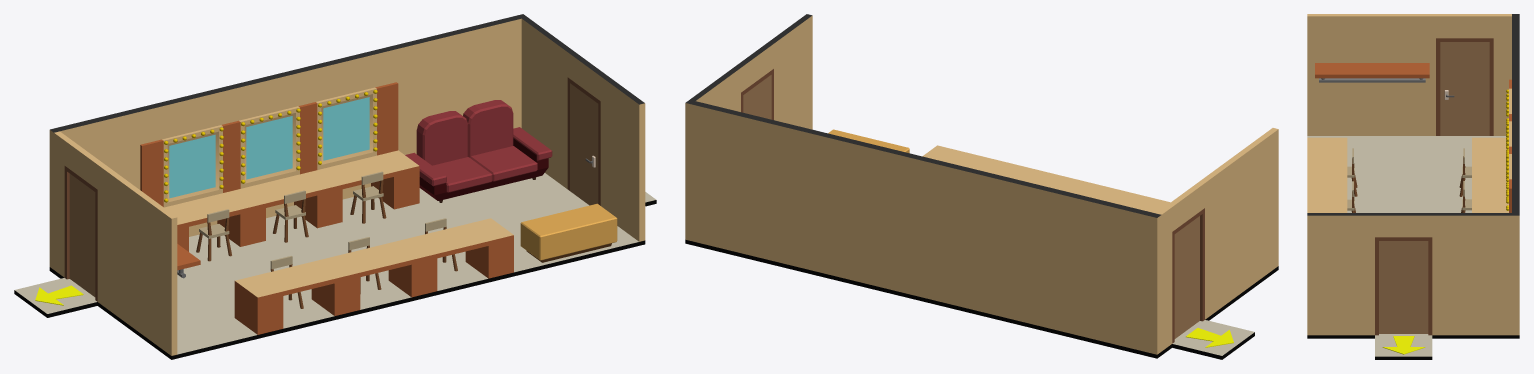
File: Camerino1.fbx
The picture shows the model from 3 angles, left to right: view 1: azimuth 30°, elevation 25°; view 2: azimuth 150°, elevation 25°; view 3: azimuth 270°, elevation 25°; orthographic projection. The views are drawn at different scales.
Parts seen in each view (by area): view 1: Paredes.010, PlataformaMovil.010, Mesa1, Mesa2, RespaldoSofá.001, MuebleTV, Puerta1.012, Puerta1.013, CojinesSofá.001, Sofá.001, ReposabrazosSofa.001, MarcoPuerta.019 (+5 smaller); view 2: Paredes.010, PlataformaMovil.010, Mesa2, Puerta1.013, MarcoPuerta.019, Puerta1.012, SalidaPasillo1.006, MuebleTV; view 3: Paredes.010, PlataformaMovil.010, Puerta1.013, Puerta1.012, Mesa1, Mesa2, Colgador, MarcoPuerta.019, MarcoPuerta.018, SalidaBaño1, Silla.009, Silla.010.
Part boxes in pixels (box(x1,y1,x2,y2)): Paredes.010: box(49, 14, 645, 355); PlataformaMovil.010: box(14, 173, 656, 359); Mesa1: box(140, 82, 419, 251); Mesa2: box(234, 218, 513, 334); RespaldoSofá.001: box(416, 100, 513, 165); MuebleTV: box(520, 203, 617, 262); Puerta1.012: box(570, 83, 598, 205); Puerta1.013: box(69, 174, 95, 296); CojinesSofá.001: box(432, 146, 537, 192); Sofá.001: box(419, 138, 548, 202); ReposabrazosSofa.001: box(405, 127, 552, 186); MarcoPuerta.019: box(64, 166, 97, 301); Paredes.010: box(685, 14, 1278, 354); PlataformaMovil.010: box(685, 239, 1278, 359); Mesa2: box(922, 145, 1170, 213); Puerta1.013: box(1174, 216, 1199, 338); MarcoPuerta.019: box(1172, 208, 1204, 343); Puerta1.012: box(743, 75, 771, 119); SalidaPasillo1.006: box(1185, 328, 1233, 347); MuebleTV: box(828, 129, 909, 153); Paredes.010: box(1307, 14, 1519, 335); PlataformaMovil.010: box(1307, 136, 1519, 359); Puerta1.013: box(1440, 42, 1489, 135); Puerta1.012: box(1379, 241, 1428, 333); Mesa1: box(1472, 79, 1511, 212); Mesa2: box(1307, 137, 1347, 212); Colgador: box(1315, 63, 1429, 82); MarcoPuerta.019: box(1436, 38, 1493, 135); MarcoPuerta.018: box(1375, 237, 1432, 335); SalidaBaño1: box(1382, 336, 1425, 354); Silla.009: box(1459, 148, 1471, 196); Silla.010: box(1347, 148, 1357, 196).
Size of the model in its own units: 28591 by 6720 by 10516.
